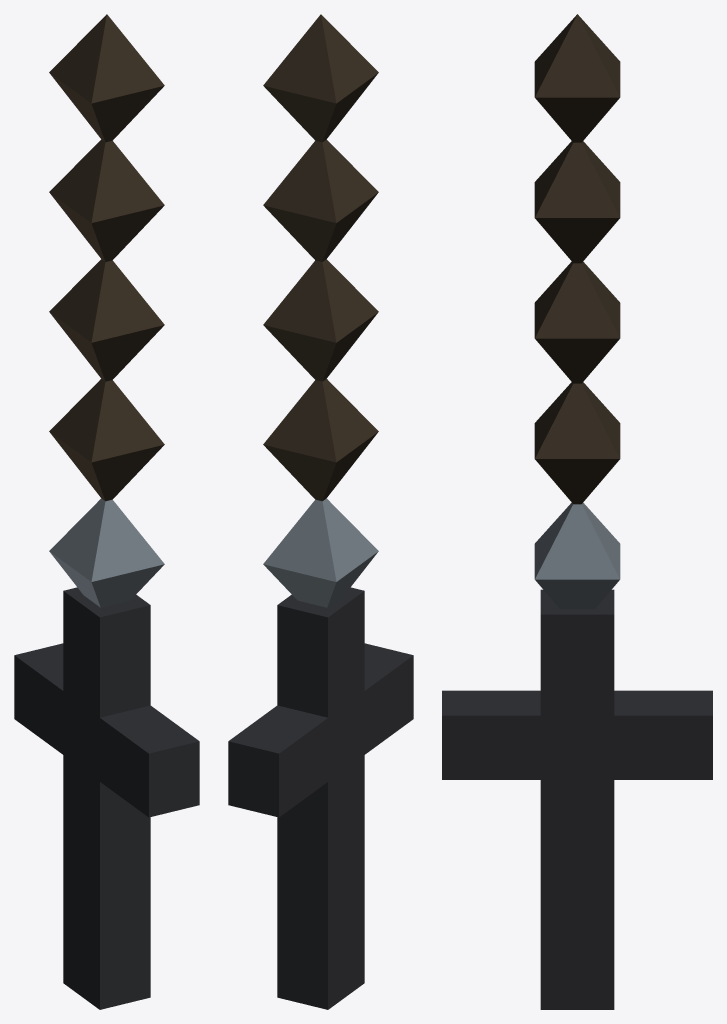
The model's file is apoc_SM_Prop_Car_Ornament_04.gltf.
3 renders of one model, left to right at view 1: azimuth 30°, elevation 25°; view 2: azimuth 150°, elevation 25°; view 3: azimuth 270°, elevation 25°, orthographic.
Visible parts, largest first — view 1: SM_Prop_Car_Ornament_04; view 2: SM_Prop_Car_Ornament_04; view 3: SM_Prop_Car_Ornament_04.
Part boxes in pixels (x1,y1,x2,y2): SM_Prop_Car_Ornament_04: [14, 14, 199, 1009]; SM_Prop_Car_Ornament_04: [228, 14, 413, 1009]; SM_Prop_Car_Ornament_04: [442, 14, 712, 1009].
Bounding box in the file's own units: 0.0269 × 0.3423 × 0.0854.
Materials: 1 (1 with a texture image).
